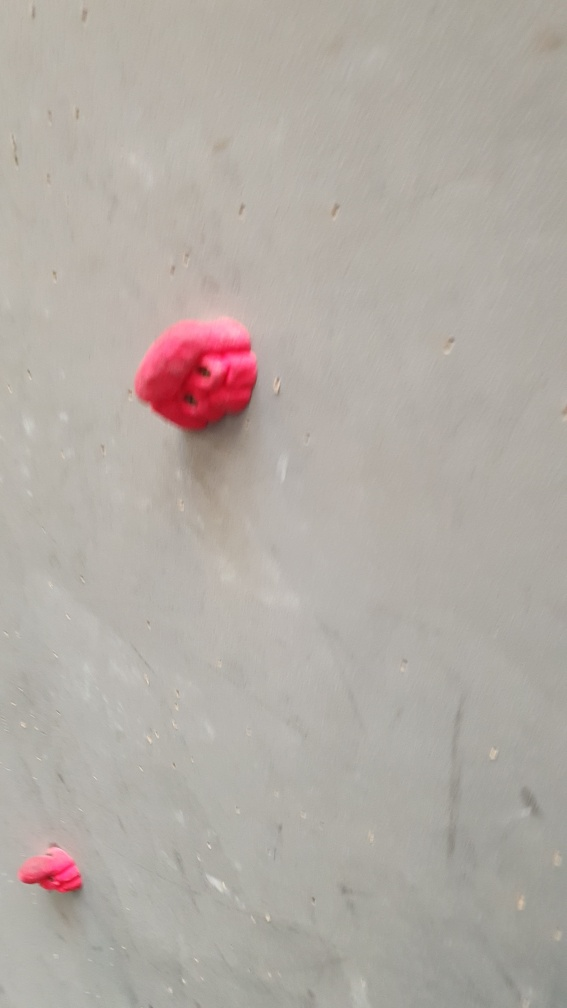Jug: (133, 311, 264, 434), (17, 843, 83, 897)
